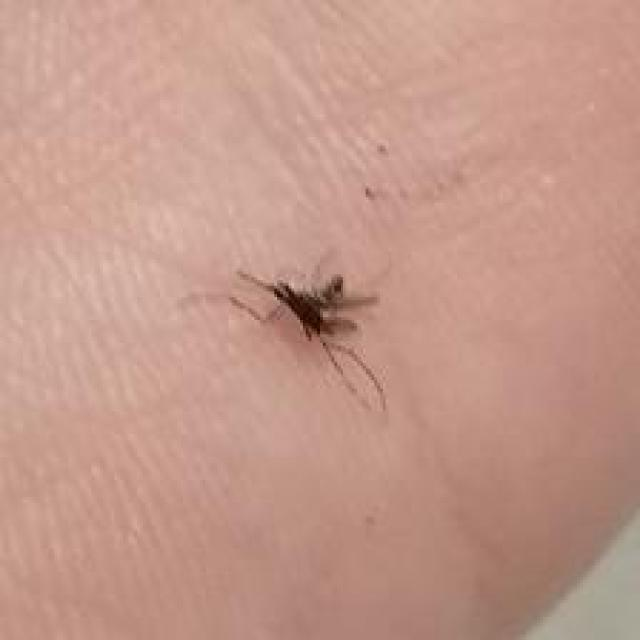Aedes albopictus: (225, 264, 388, 413)
